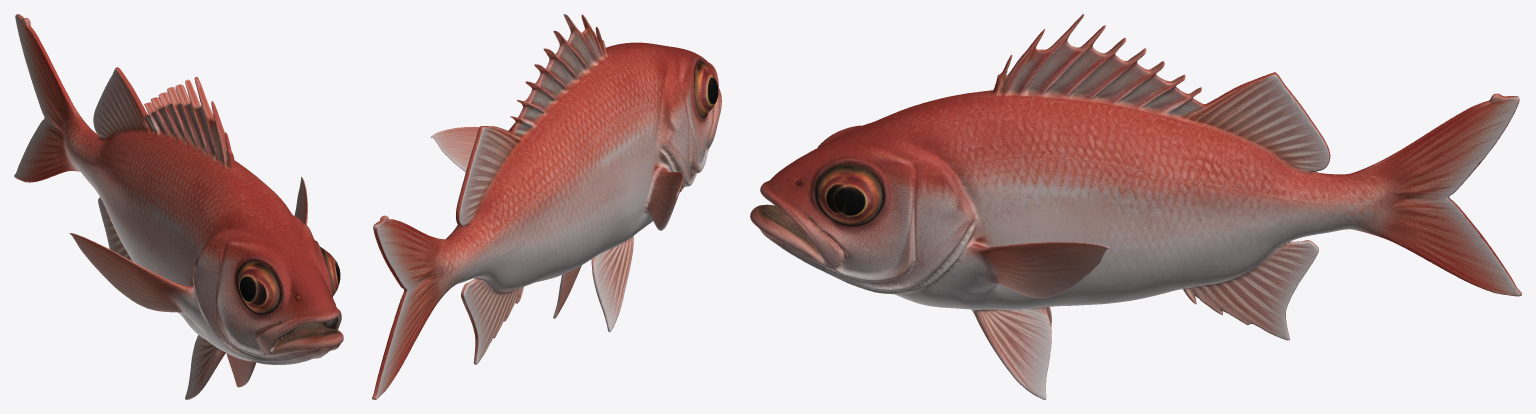
File: akamutsu.glb
3 renders of one model, left to right at view 1: azimuth 30°, elevation 25°; view 2: azimuth 150°, elevation 25°; view 3: azimuth 270°, elevation 25°, orthographic. The views are drawn at different scales.
Size of the model in its own units: 0.799 by 1 by 1.9.
1 material, 1 textured.
